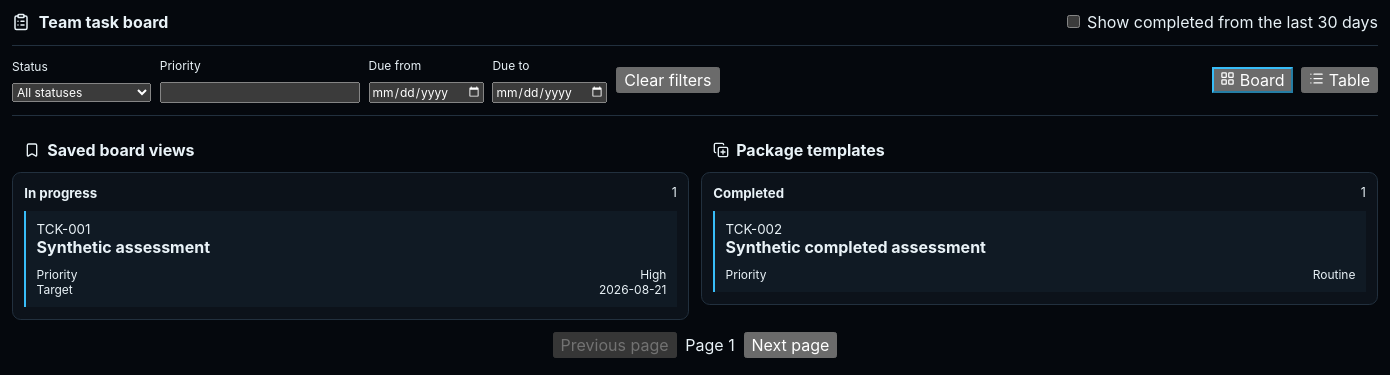
Scenario: groups privacy-minimised cards and can request completed work
Expected: the heading "In progress" is shown, [24, 185, 97, 201]
Expected: the text "Synthetic assessment" is shown, [37, 237, 210, 257]
What coordinates should you click on to do the following:
click the checkbox labelled "Show completed from the last 30 days"
I would click on:
 (1073, 22)
Its box is [1067, 15, 1080, 28].
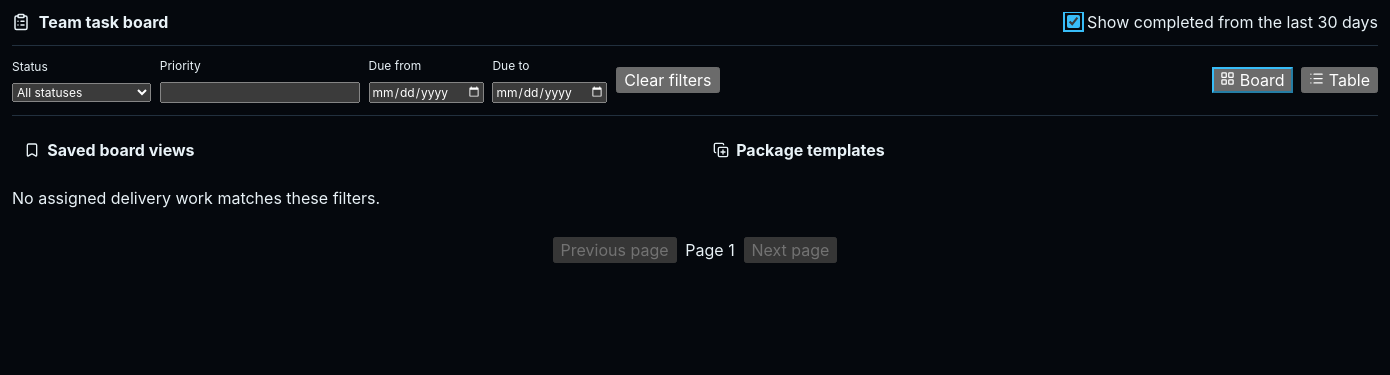
Now the text "No assigned delivery work matches these filters." is shown, box [12, 188, 380, 208]
